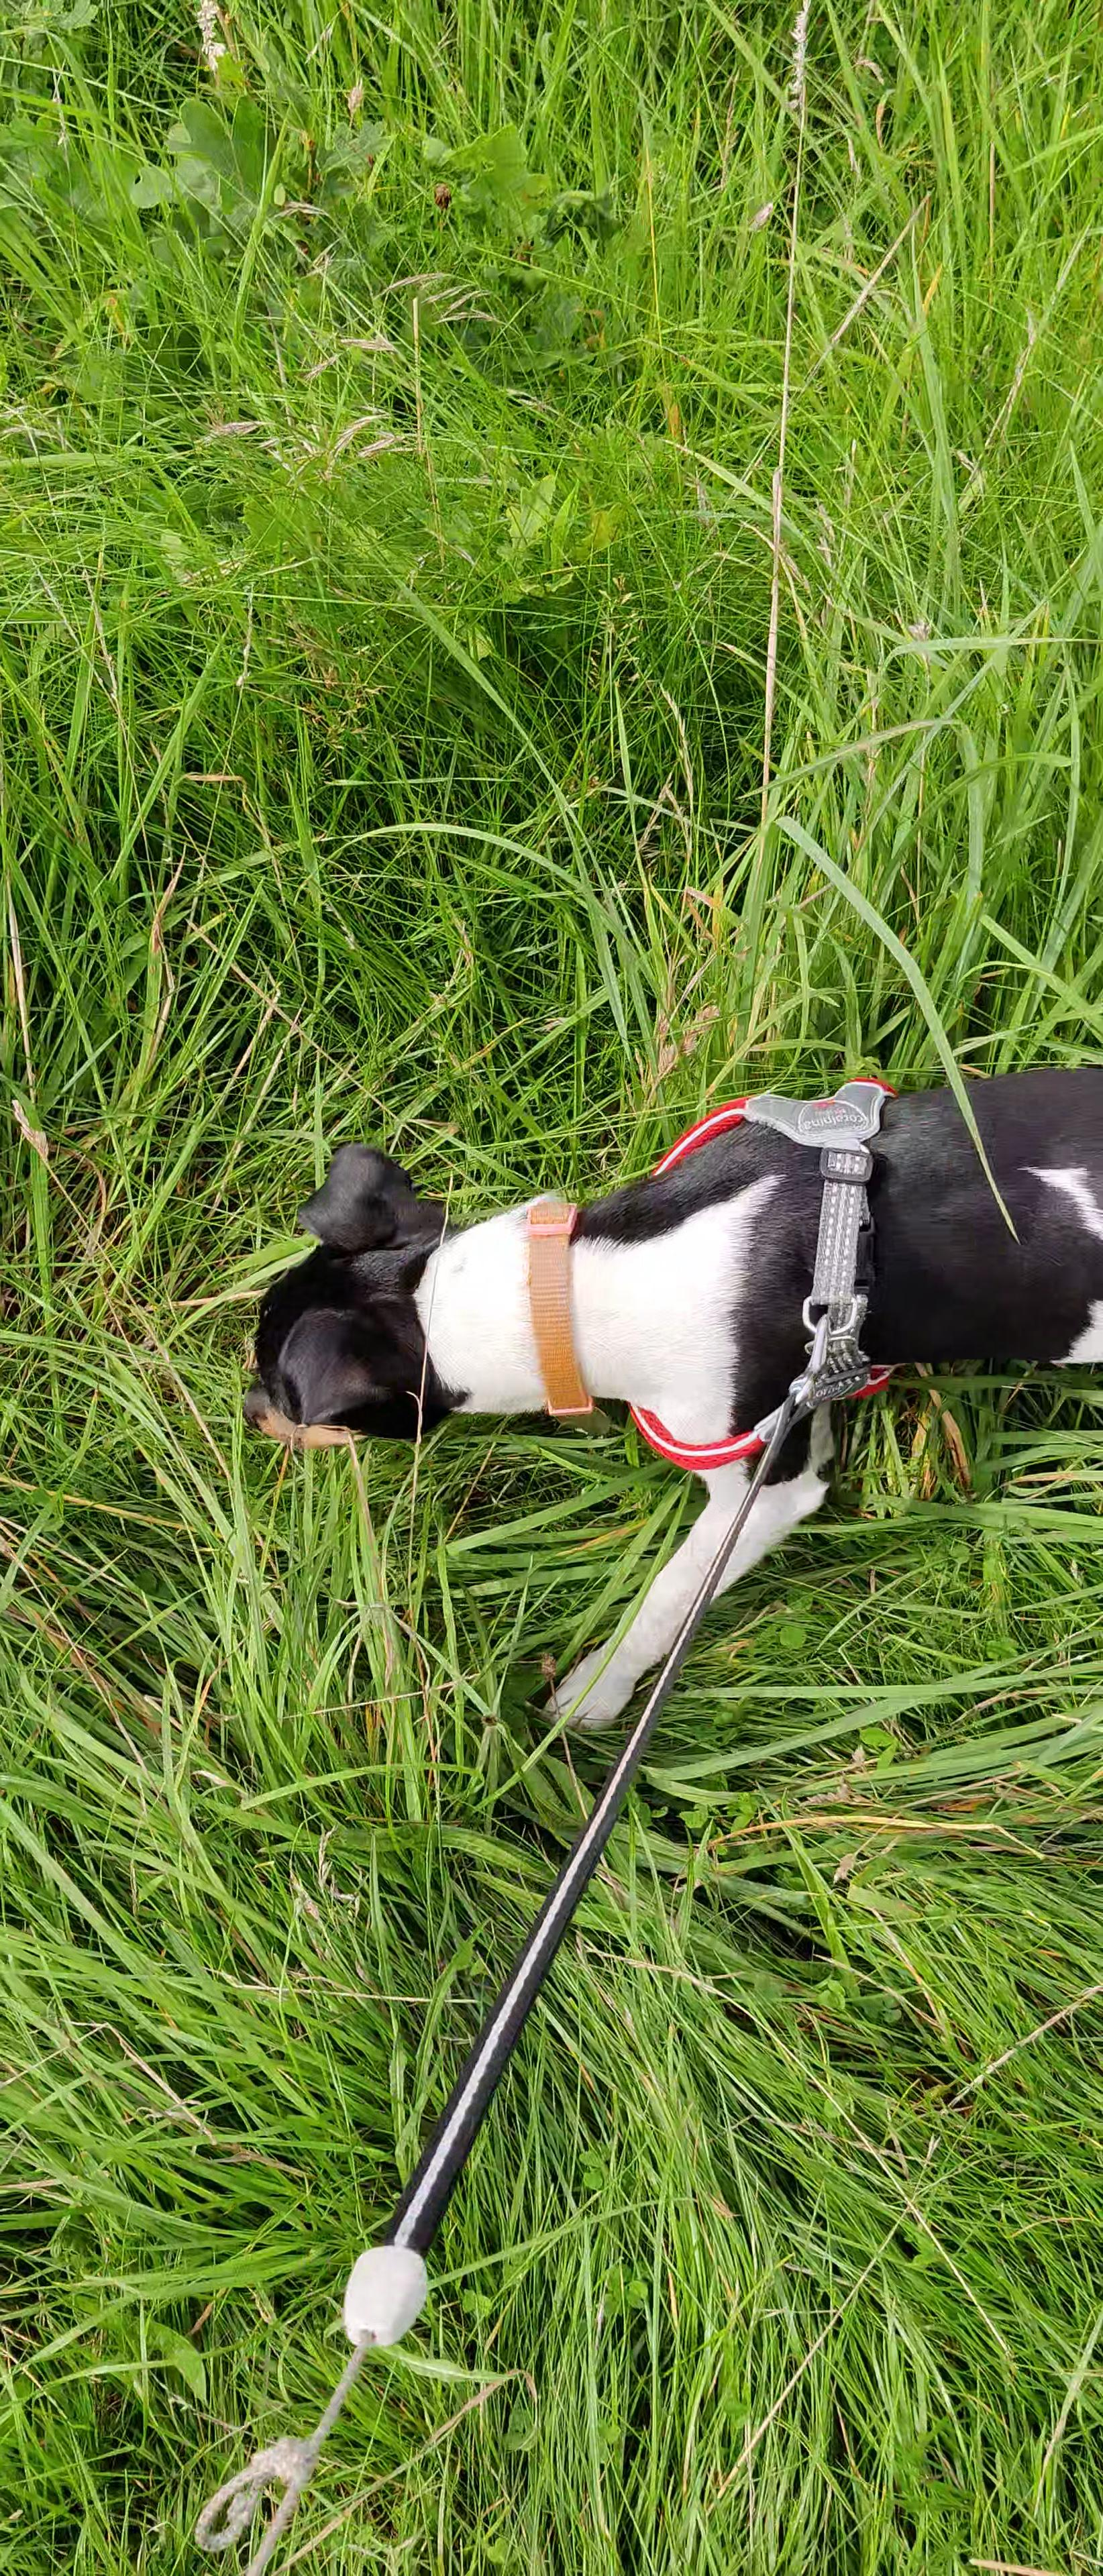Dog: (232, 1048, 1103, 1751)
